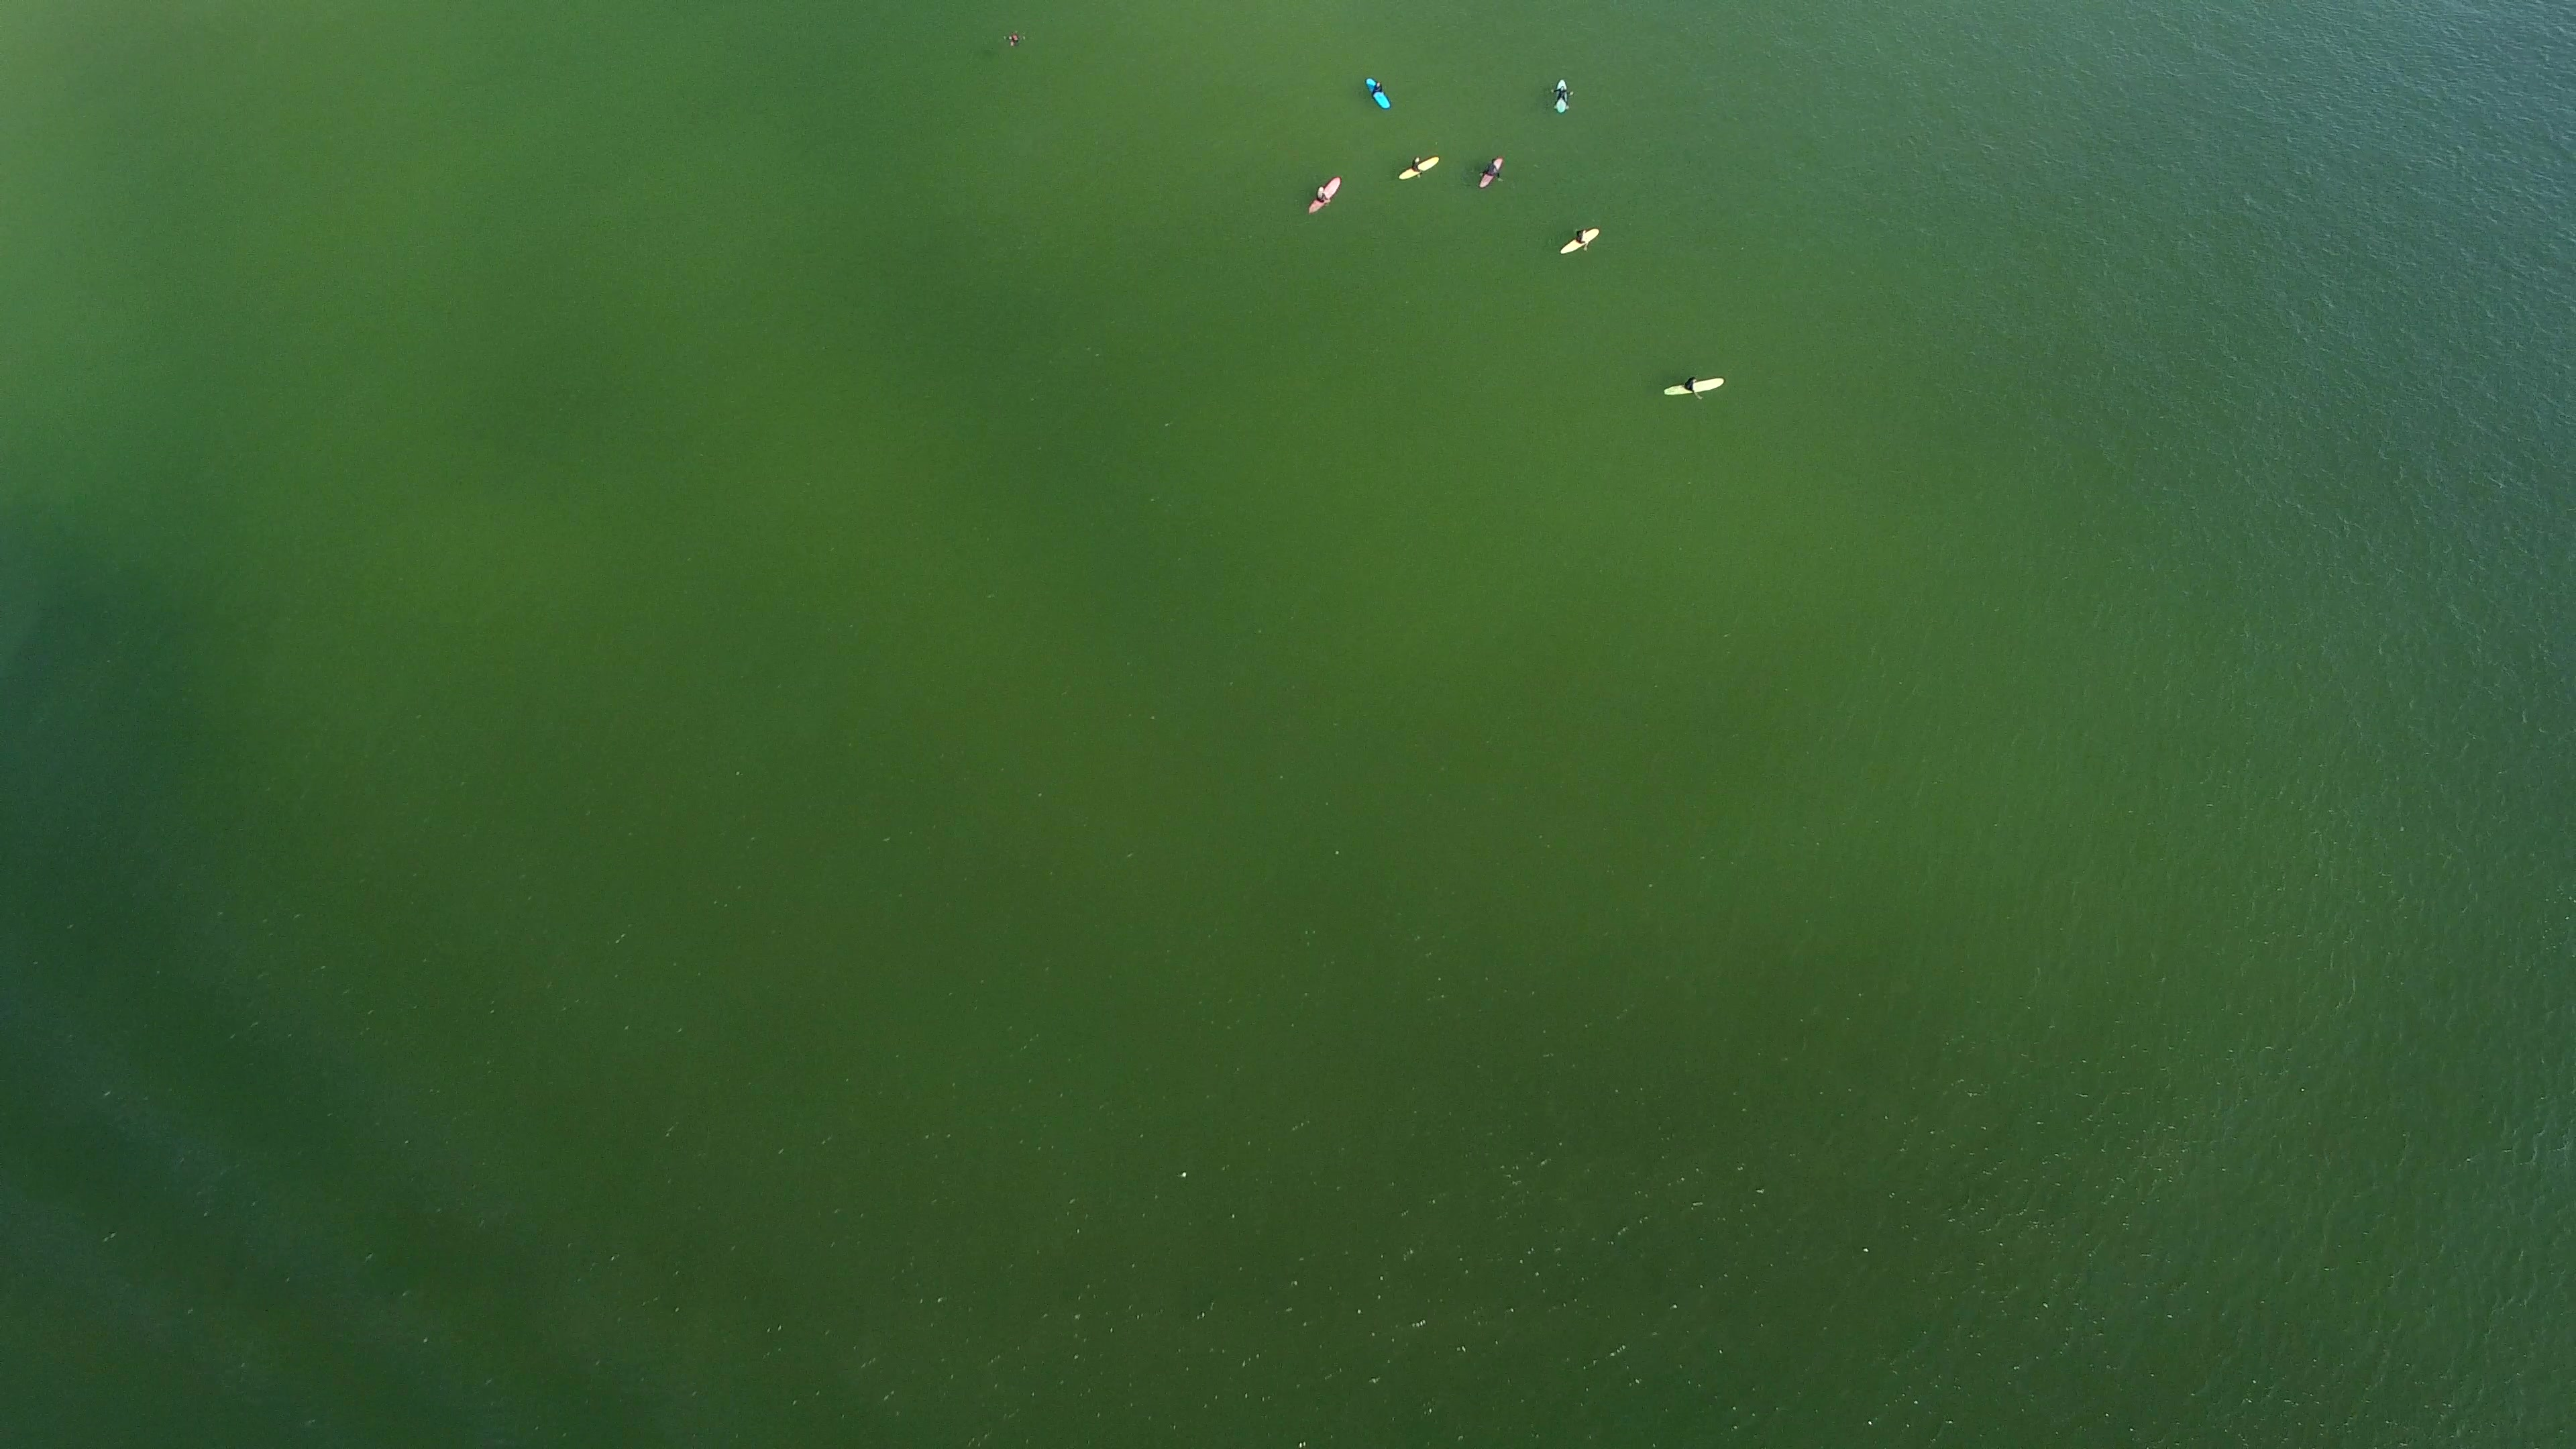surfer: (1661, 366, 1730, 405), (1304, 173, 1350, 219), (1361, 69, 1398, 119), (1562, 228, 1605, 262), (1545, 78, 1576, 119), (1401, 156, 1444, 184), (1477, 156, 1509, 193)
